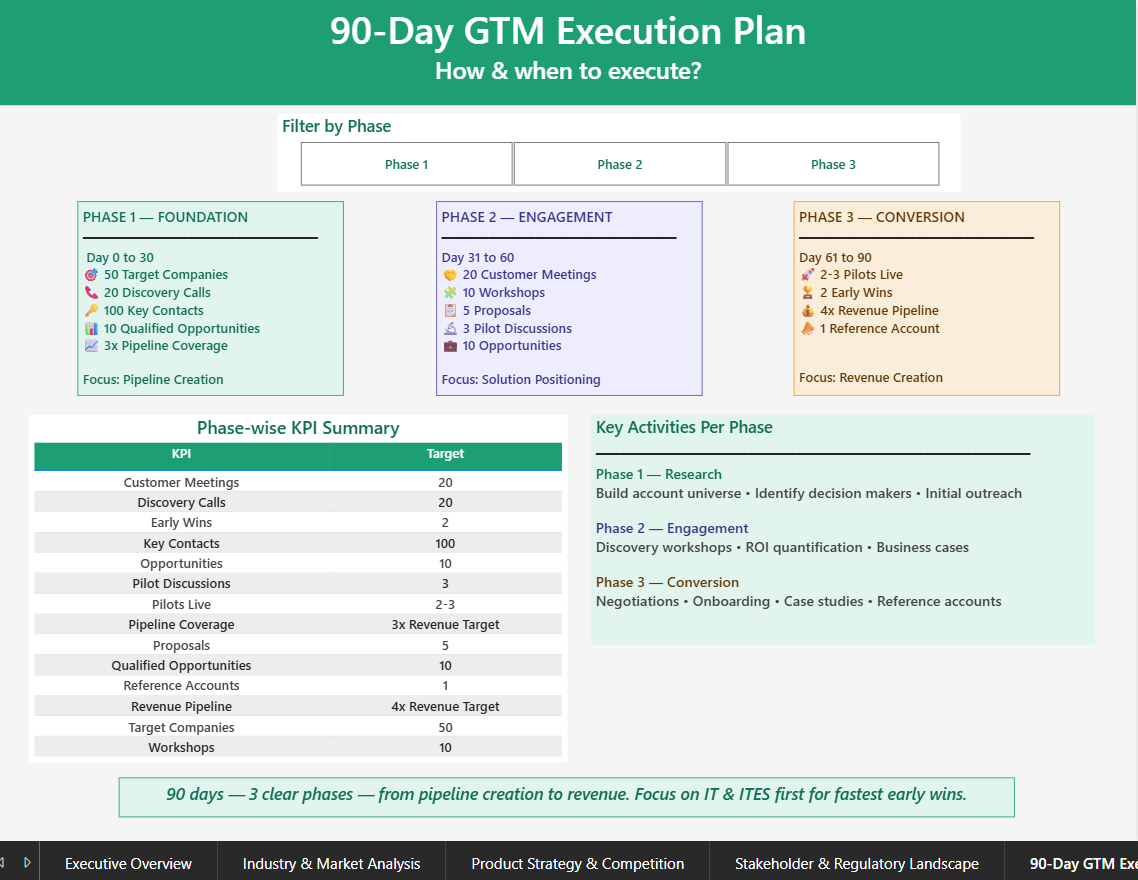

Layout of this report page (visuals, bound fields, positions):
{"tool":"powerbi","page":{"name":"90-Day GTM Execution Plan","canvas":[1280,950],"ordinal":4},"visuals":[{"type":"textbox","box":[0.5,-0.7,1280.2,120],"z":0},{"type":"slicer","title":"Filter by Phase","fields":{"Values":["5_roadmap_fixed.Phase"]},"box":[313.3,128.5,769.9,88.1],"z":1000},{"type":"textbox","box":[87.1,227.2,300,219.1],"z":2000},{"type":"textbox","box":[491.1,227.2,300,219.1],"z":3000},{"type":"textbox","box":[895.1,227.2,300,219.1],"z":4000},{"type":"tableEx","title":"Phase-wise KPI Summary","fields":{"Values":["5_roadmap_fixed.KPI","5_roadmap_fixed.Target"]},"box":[32.4,467.6,607,391.5],"z":5000},{"type":"textbox","title":"Key Activities Per Phase","box":[666.2,467.6,567.6,259.2],"z":6000},{"type":"textbox","box":[133.8,876.1,1009.9,45.1],"z":7000}]}

Visuals, with their boxes on the page's 1280x950 design canvas (x1, y1, x2, y2). These are canvas units, not pixel positions in the 1138x880 screenshot, which may show the page scaled, cropped or inside an application window:
textbox: {"x1": 0, "y1": -1, "x2": 1281, "y2": 119}
"Filter by Phase" slicer: {"x1": 313, "y1": 128, "x2": 1083, "y2": 217}
textbox: {"x1": 87, "y1": 227, "x2": 387, "y2": 446}
textbox: {"x1": 491, "y1": 227, "x2": 791, "y2": 446}
textbox: {"x1": 895, "y1": 227, "x2": 1195, "y2": 446}
"Phase-wise KPI Summary" tableEx: {"x1": 32, "y1": 468, "x2": 639, "y2": 859}
"Key Activities Per Phase" textbox: {"x1": 666, "y1": 468, "x2": 1234, "y2": 727}
textbox: {"x1": 134, "y1": 876, "x2": 1144, "y2": 921}
